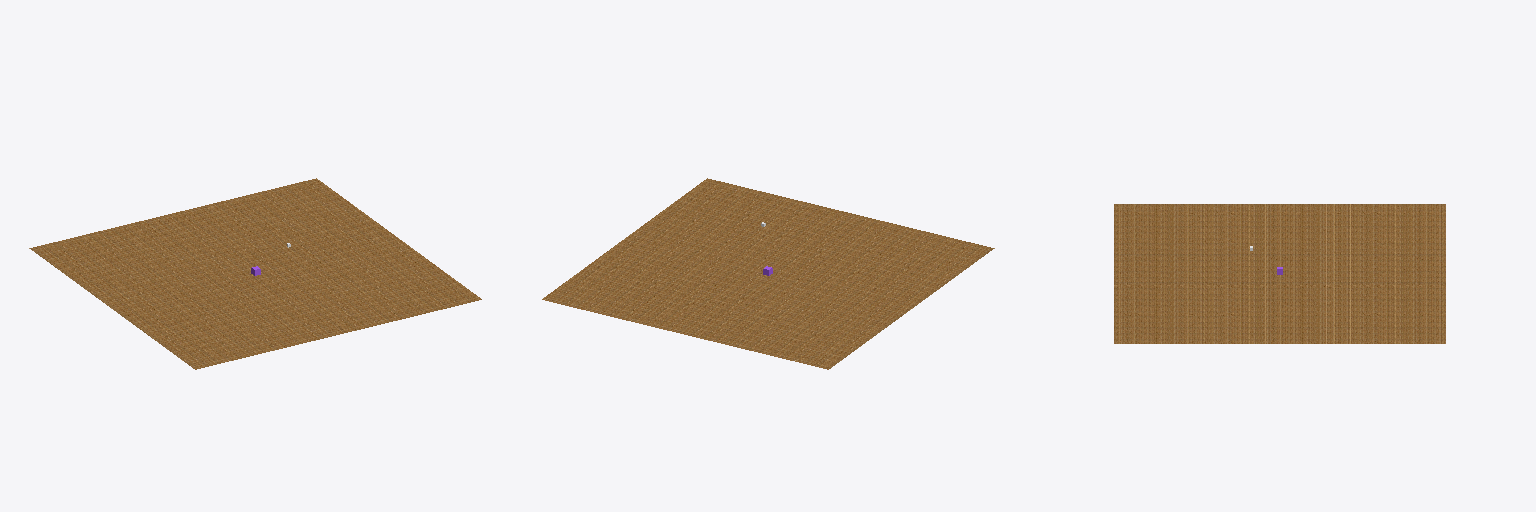
The picture shows the model from 3 angles: view 1: azimuth 30°, elevation 25°; view 2: azimuth 150°, elevation 25°; view 3: azimuth 270°, elevation 25°; orthographic projection.
Visible parts, largest first — view 1: wood_plane; view 2: wood_plane; view 3: wood_plane.
Part boxes in pixels (left/top/right/bottom): wood_plane: left=29, top=178, right=481, bottom=369; wood_plane: left=542, top=178, right=994, bottom=369; wood_plane: left=1114, top=204, right=1445, bottom=343.
Bounding box in the file's own units: 50 × 6 × 50.
3 materials, 1 textured.